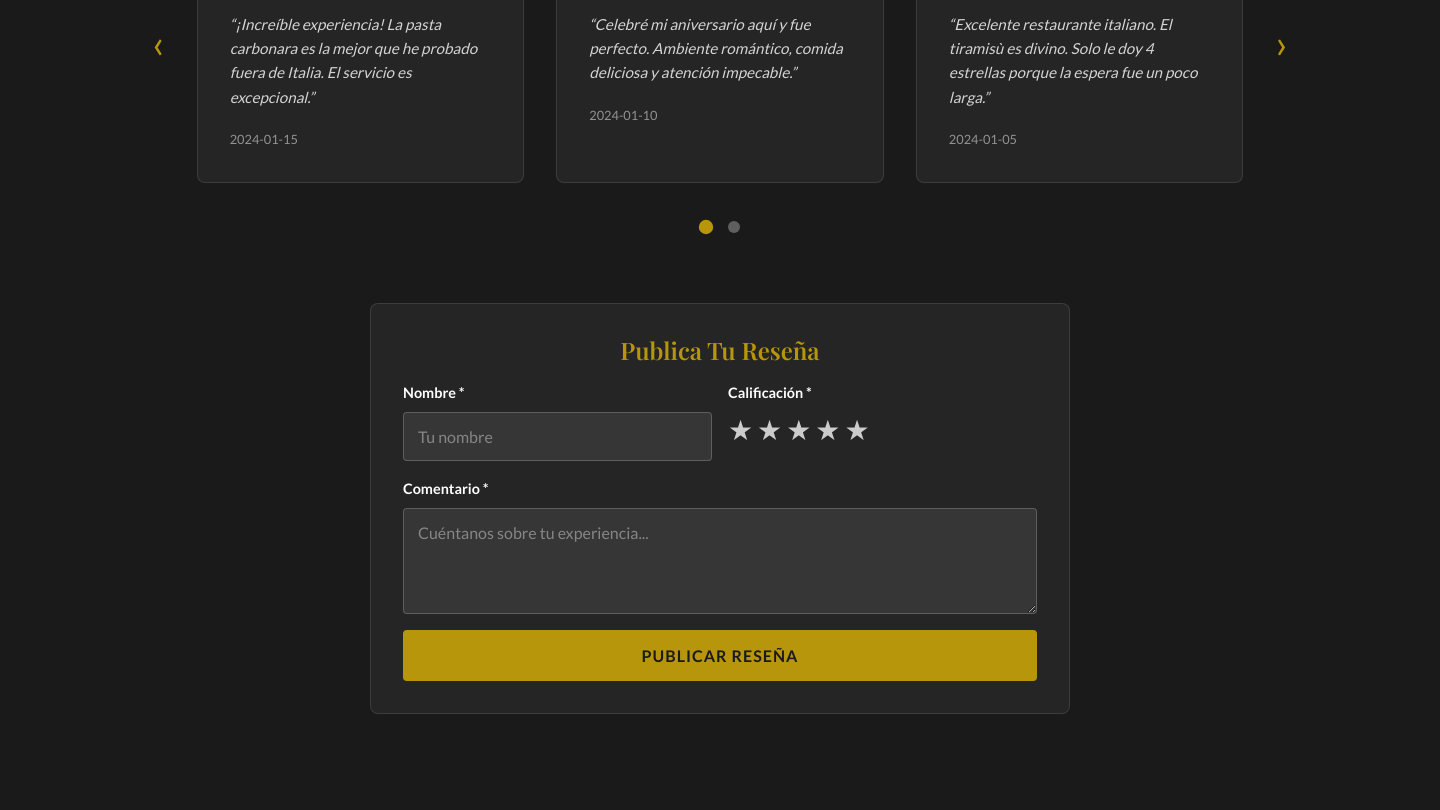
it: Reviews › shows validation errors when submitting empty form
(page scrolled)
Click the button "Publicar Reseña".
click(720, 656)  # box [403,630,1037,681]
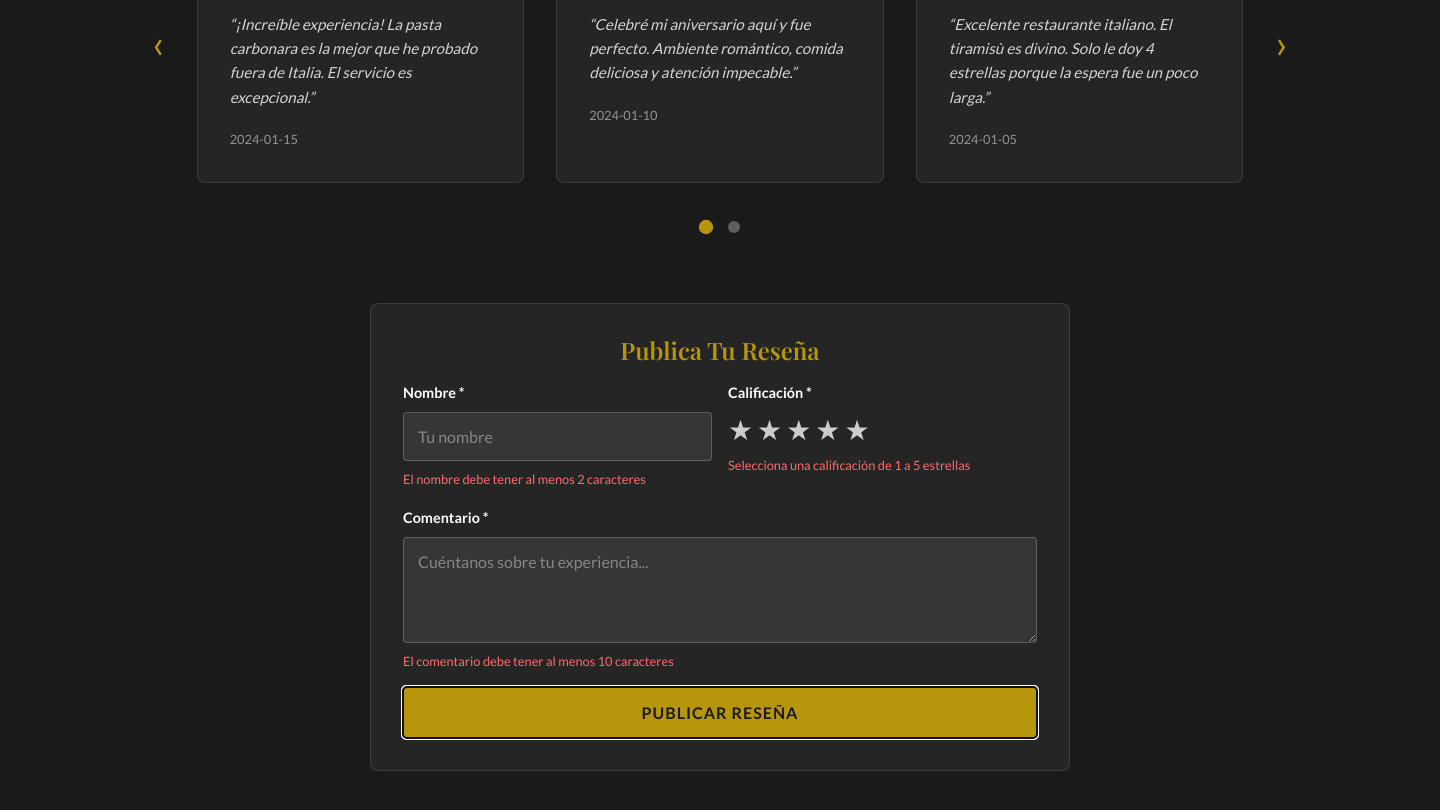
Now the text "El nombre debe tener al menos 2 caracteres" is shown, box [403,471,646,487]
Now the text "Selecciona una calificación de 1 a 5 estrellas" is shown, box [728,457,970,473]
Now the text "El comentario debe tener al menos 10 caracteres" is shown, box [403,653,674,669]
